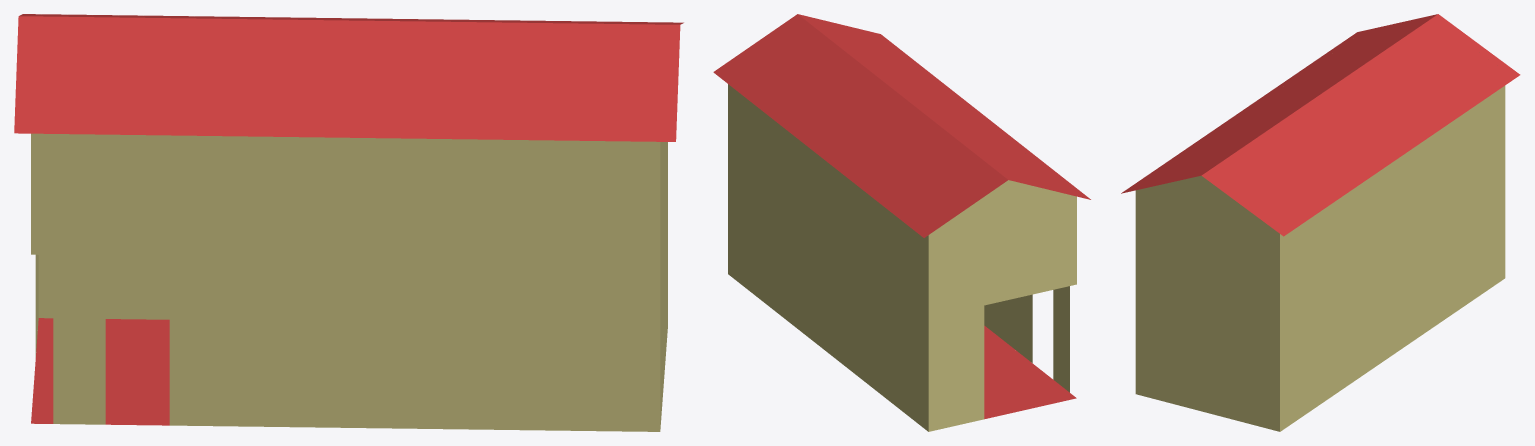
3 renders of one model, left to right at view 1: azimuth 30°, elevation 25°; view 2: azimuth 150°, elevation 25°; view 3: azimuth 270°, elevation 25°, orthographic. The views are drawn at different scales.
Visible parts, largest first — view 1: group_5, group_3, group_6, group_4; view 2: group_5, group_3, group_6, group_4; view 3: group_5, group_3, group_4.
Part boxes in pixels (x1,y1,x2,y2): group_5: (31, 133, 667, 431); group_3: (14, 14, 683, 141); group_6: (31, 318, 169, 425); group_4: (14, 14, 670, 141); group_5: (728, 84, 1076, 431); group_3: (713, 14, 1076, 236); group_6: (984, 325, 1076, 419); group_4: (847, 38, 1090, 237); group_5: (1135, 85, 1505, 431); group_3: (1121, 14, 1518, 236); group_4: (1125, 14, 1519, 190).
Size of the model in its own units: 32.79 by 27.13 by 18.04.
